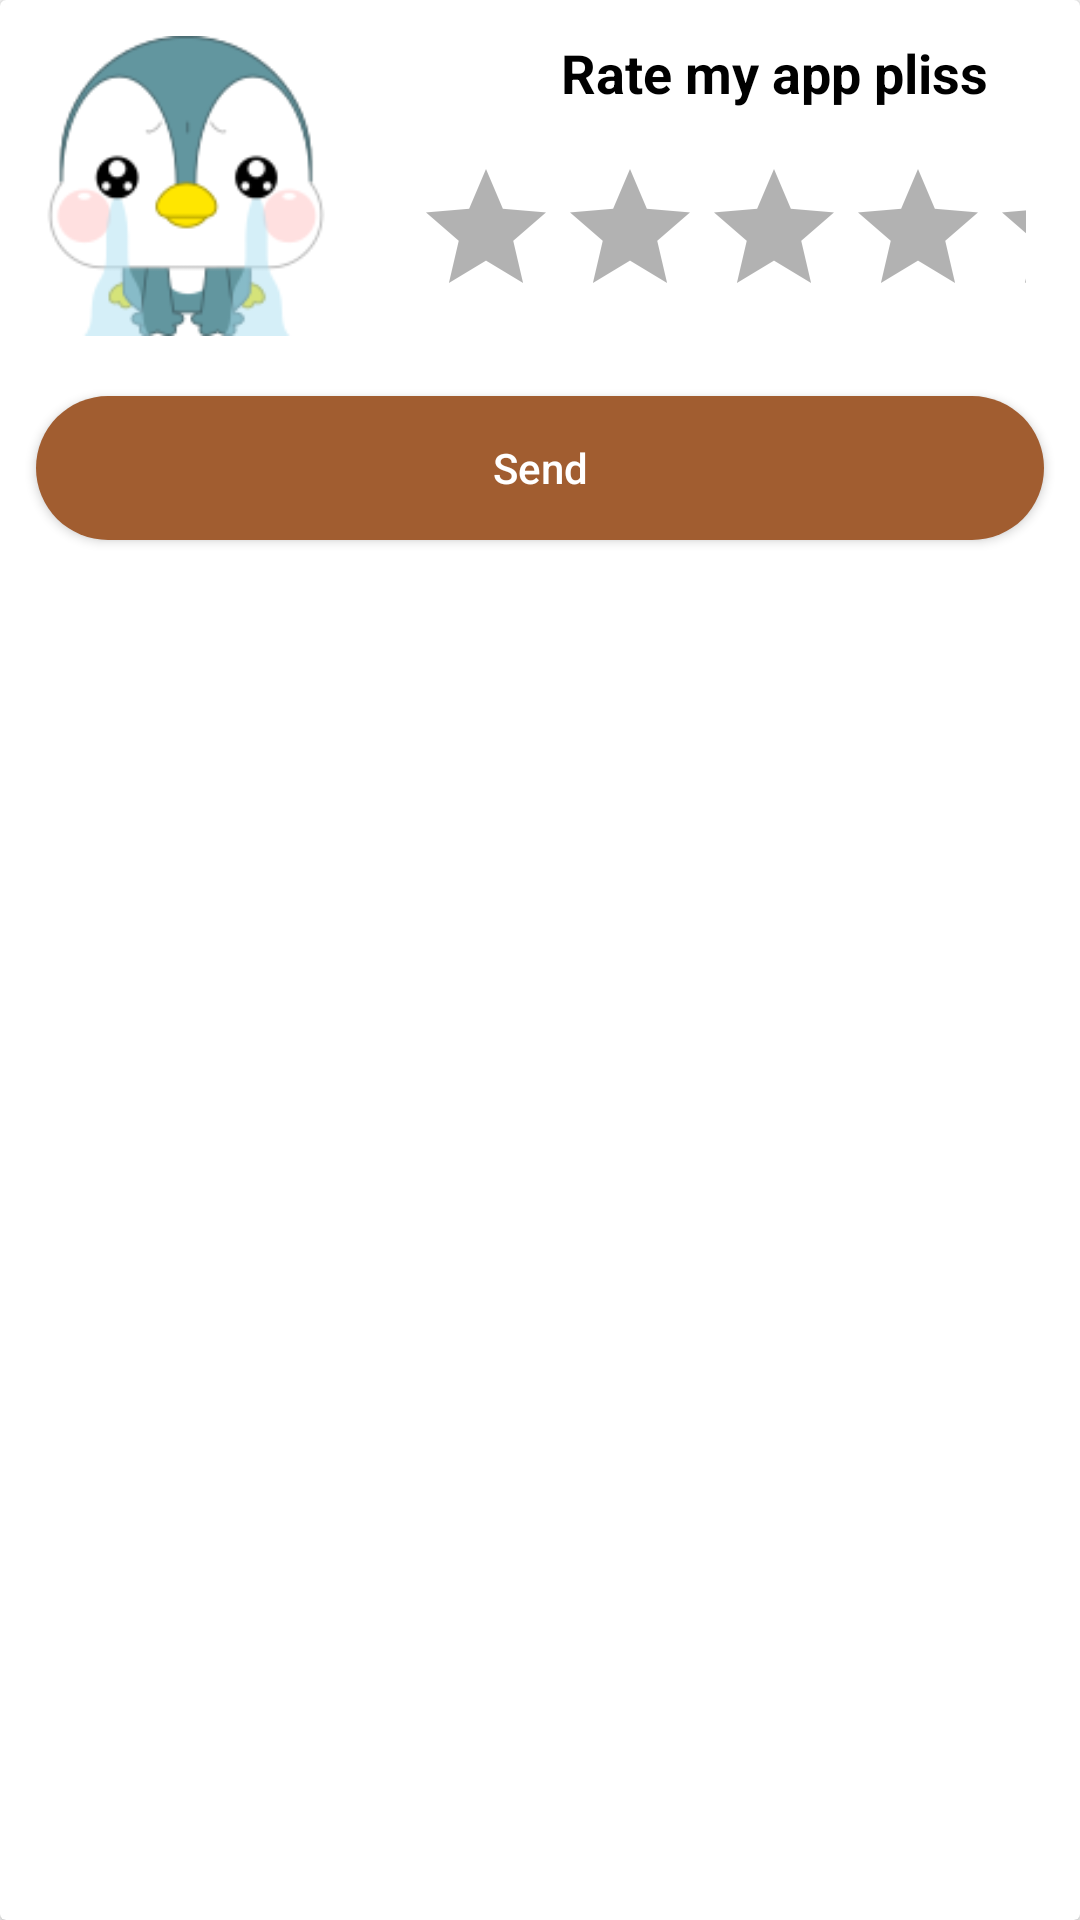

Icons on this 1080 x 1920 Android screen, each with its box as (x1, y1, x2, y2):
penguin: (49, 36, 323, 336)
